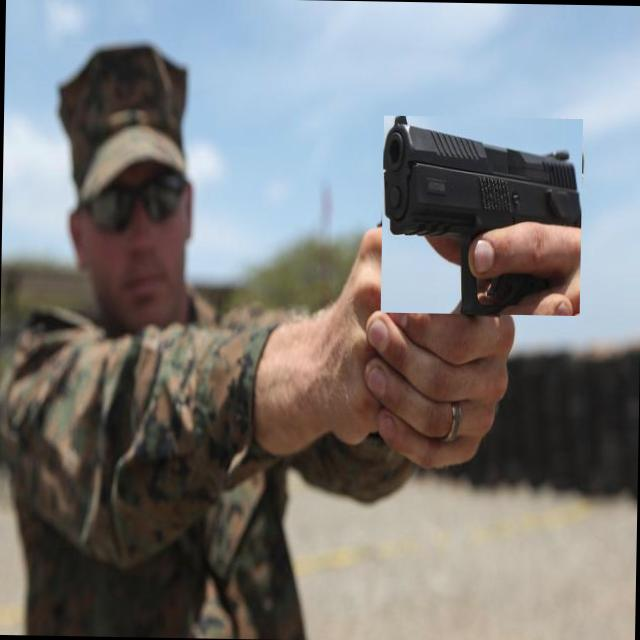Knife: (384, 116, 581, 314)
